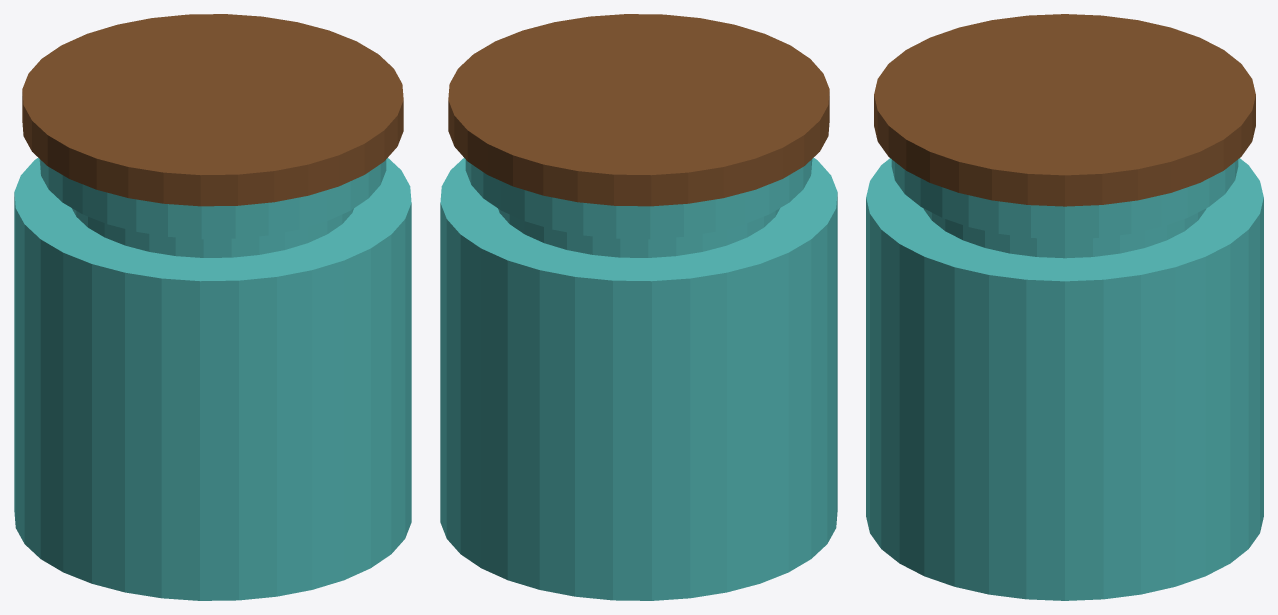
The model's file is smallglassjar.fbx.
The picture shows the model from 3 angles, left to right: view 1: azimuth 30°, elevation 25°; view 2: azimuth 150°, elevation 25°; view 3: azimuth 270°, elevation 25°; orthographic projection.
Visible parts, largest first — view 1: Cylinder, Cylinder.001; view 2: Cylinder, Cylinder.001; view 3: Cylinder, Cylinder.001.
Part boxes in pixels (left/top/right/bottom): Cylinder: left=14, top=157, right=411, bottom=600; Cylinder.001: left=22, top=14, right=403, bottom=206; Cylinder: left=440, top=157, right=837, bottom=600; Cylinder.001: left=448, top=14, right=829, bottom=206; Cylinder: left=866, top=158, right=1263, bottom=600; Cylinder.001: left=874, top=14, right=1255, bottom=206.
Bounding box in the file's own units: 38.33 × 44.9 × 38.33.
